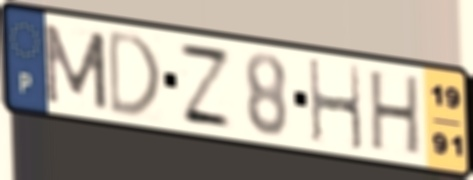8: (242, 50, 291, 140)
D: (106, 26, 163, 119)
H: (305, 56, 366, 154), (368, 69, 423, 160)
M: (39, 20, 111, 114)
Z: (176, 39, 235, 133)
